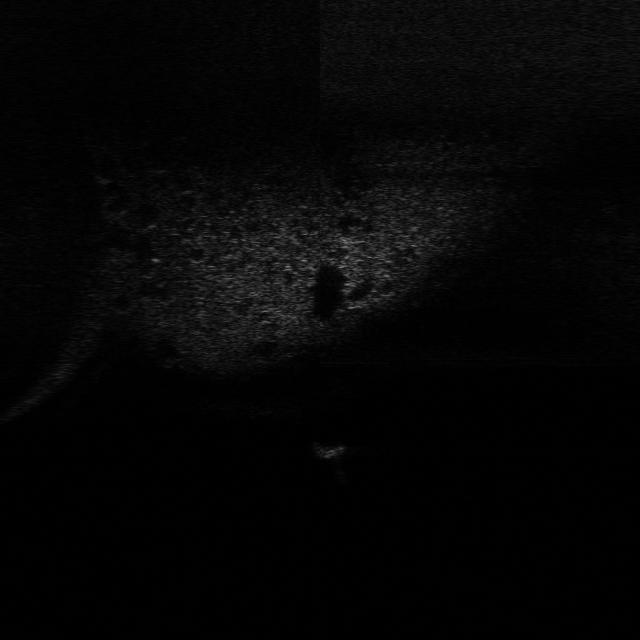cube: (306, 436, 350, 462)
